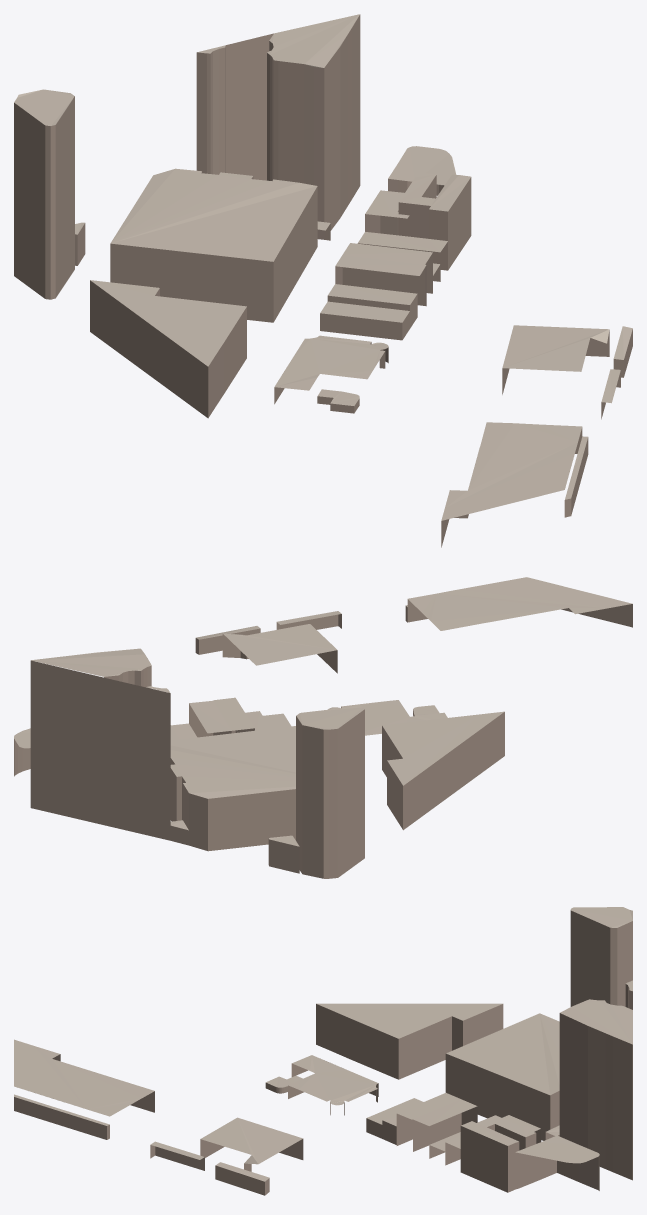
File: epsg26910-1441-10893.building-presentation-proof.glb
3 views of the same model, one above another, from view 1: azimuth 30°, elevation 25°; view 2: azimuth 150°, elevation 25°; view 3: azimuth 270°, elevation 25° (orthographic). The views are drawn at different scales.
Visible parts, largest first — view 1: epsg26910-1441-10893-building-presentation-proof; view 2: epsg26910-1441-10893-building-presentation-proof; view 3: epsg26910-1441-10893-building-presentation-proof.
Part boxes in pixels (bbox=[...]): epsg26910-1441-10893-building-presentation-proof: bbox=[14, 14, 632, 547]; epsg26910-1441-10893-building-presentation-proof: bbox=[14, 577, 632, 878]; epsg26910-1441-10893-building-presentation-proof: bbox=[14, 907, 632, 1195].
Bounding box in the file's own units: 229 × 97.67 × 384.
